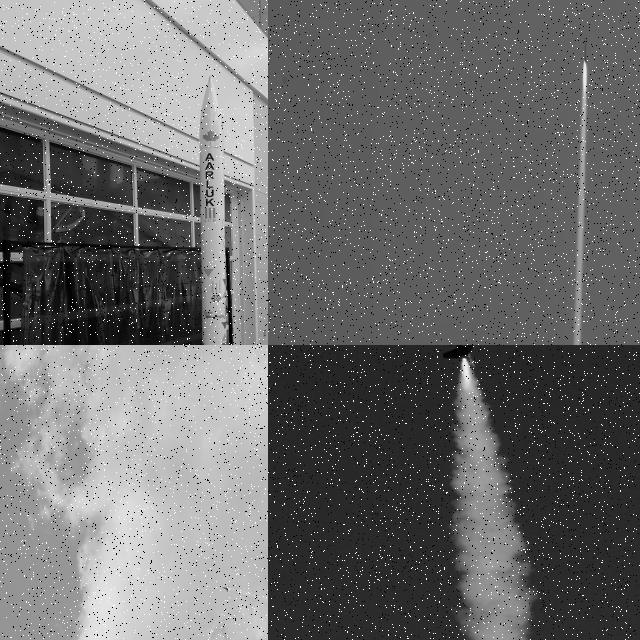Rocket: (199, 75, 227, 345), (441, 345, 477, 367), (584, 38, 587, 65), (222, 586, 230, 593)
